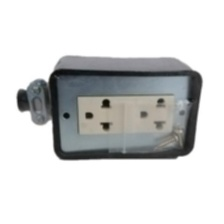three_eye_plug: (45, 52, 205, 164)
